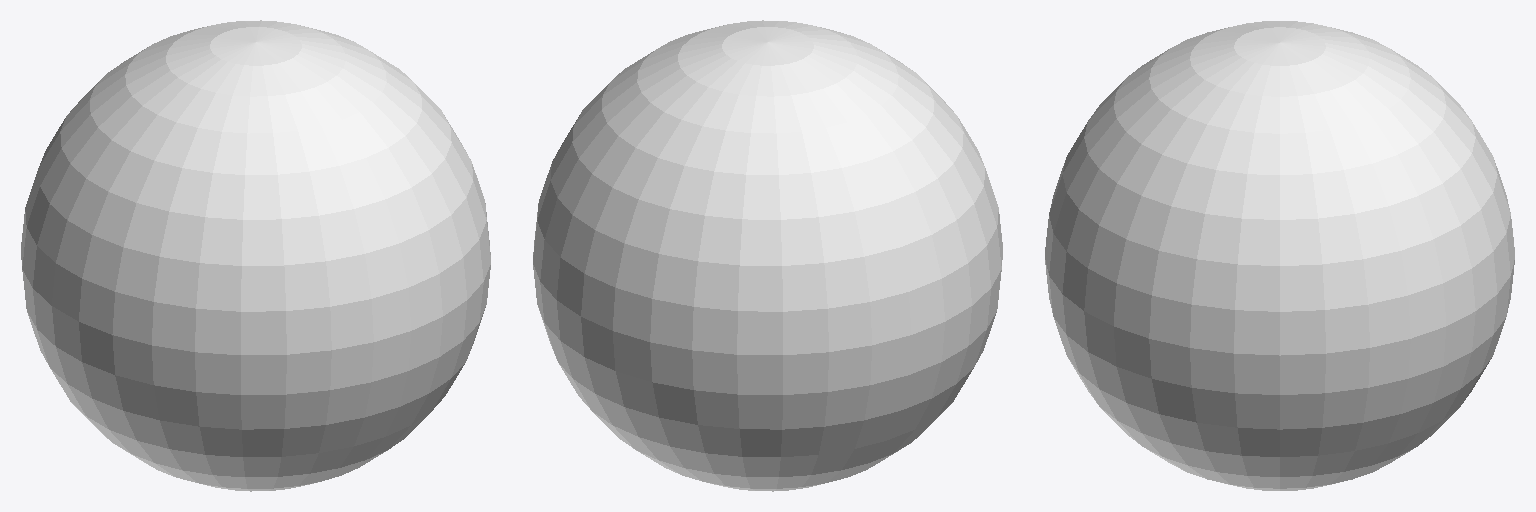
URDF robot description (ball):
<?xml version="1.0"?>
<robot name="ball">
    <link name="robot_base">
        <inertial>
            <origin rpy="-3.141593 3.141593 -3.141593" xyz="0.325000 -0.000000 0.761000" />
            <inertia ixx="8.1648122820991e-08" ixy="9.0178224748735e-22" ixz="-2.0440593238477e-16" iyz="1.152705991788e-15" izz="8.1387005525338e-08" iyy="8.1648122820986e-08" />
            <mass value="0.0020609709899873" />
        </inertial>
        <collision name="ball">
            <origin xyz="0.325000 0.000000 0.761000" rpy="-3.141593 3.141593 -3.141593" />
            <geometry>
                <sphere radius="0.010000000707805" />
            </geometry>
        </collision>
        <visual name="ball">
            <origin xyz="0.325000 0.000000 0.761000" rpy="-3.141593 3.141593 -3.141593" />
            <geometry>
                <sphere radius="0.010000000707805" />
            </geometry>
            <material name="robot_base_material">
                <color rgba="0.960000 0.960000 0.960000 1.0" />
            </material>
        </visual>
    </link>
</robot>

--- Facts derived from the render (not from the file) ---
Views: 3 orthographic renders of the robot side by side, from view 1: azimuth 30°, elevation 25°; view 2: azimuth 150°, elevation 25°; view 3: azimuth 270°, elevation 25°.
Robot: ball — 1 links, 0 joints (none); root link robot_base; default pose: all joints at 0.
Visible links, largest first — view 1: robot_base; view 2: robot_base; view 3: robot_base.
Boxes of the visible links, bbox=[...] form: robot_base: bbox=[21, 20, 490, 491]; robot_base: bbox=[533, 20, 1002, 491]; robot_base: bbox=[1045, 21, 1514, 490].
Bounding box of the posed robot: 0.02 × 0.02 × 0.02 m (x, y, z).
Geometry: primitives only (box / cylinder / sphere), no mesh files.
